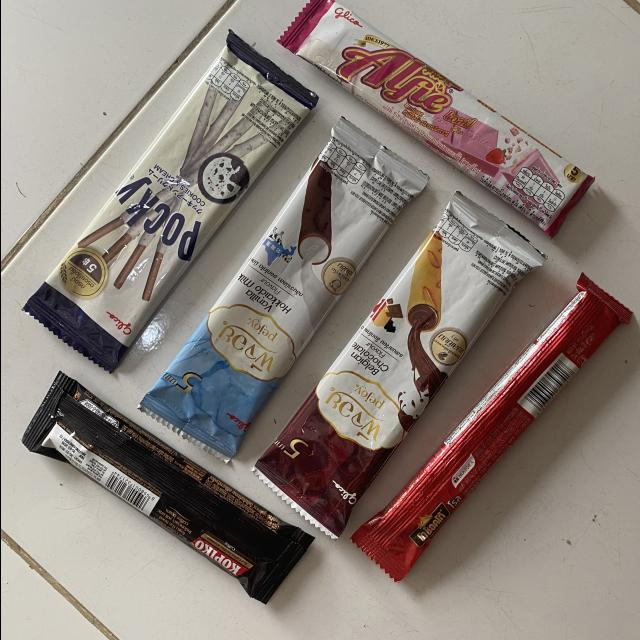plastik: (253, 193, 545, 538), (24, 31, 317, 371), (140, 119, 427, 461), (351, 275, 630, 582), (278, 0, 593, 237), (21, 371, 313, 603)
